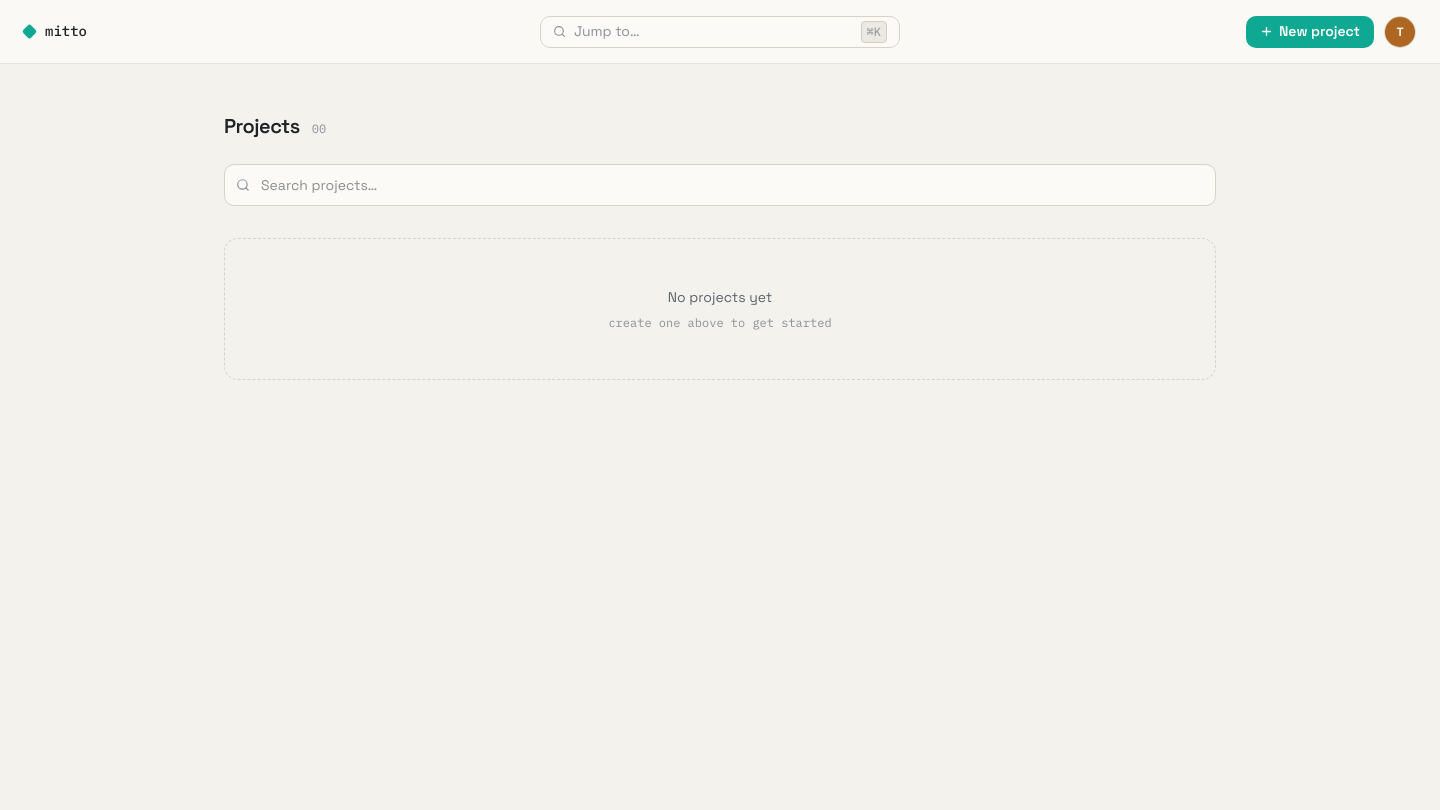
Scenario: ProjectsPage › creates a project via the New project button and adds it to the list
The image size is (1440, 810).
Check: the text "No projects yet" is shown, box [668,288,772,306]
Click the button "New project". click: (1310, 32)
box: [1246,16,1374,48]
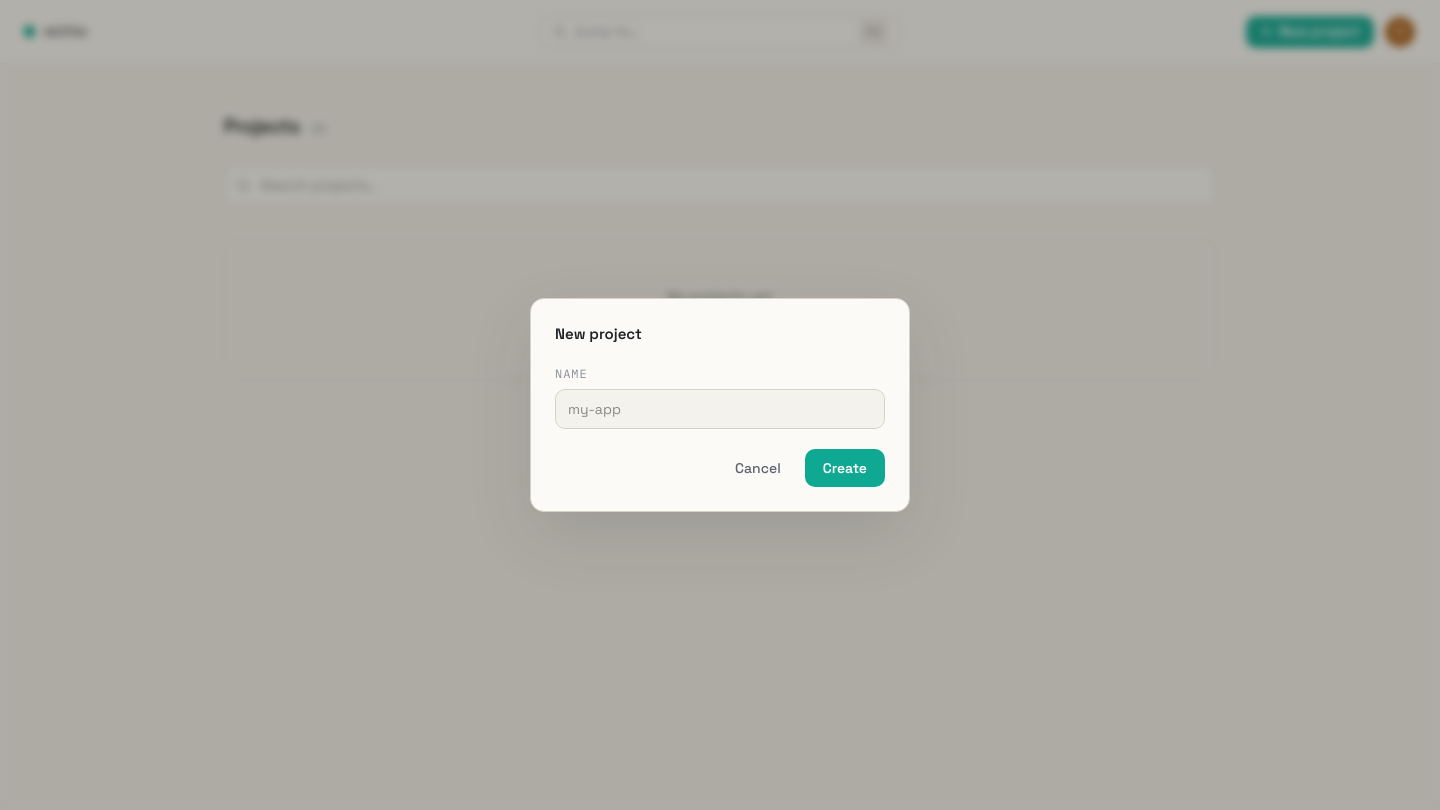
Type "My App" into the field labelled "Name". click: (720, 409)
box: [555,389,885,429]
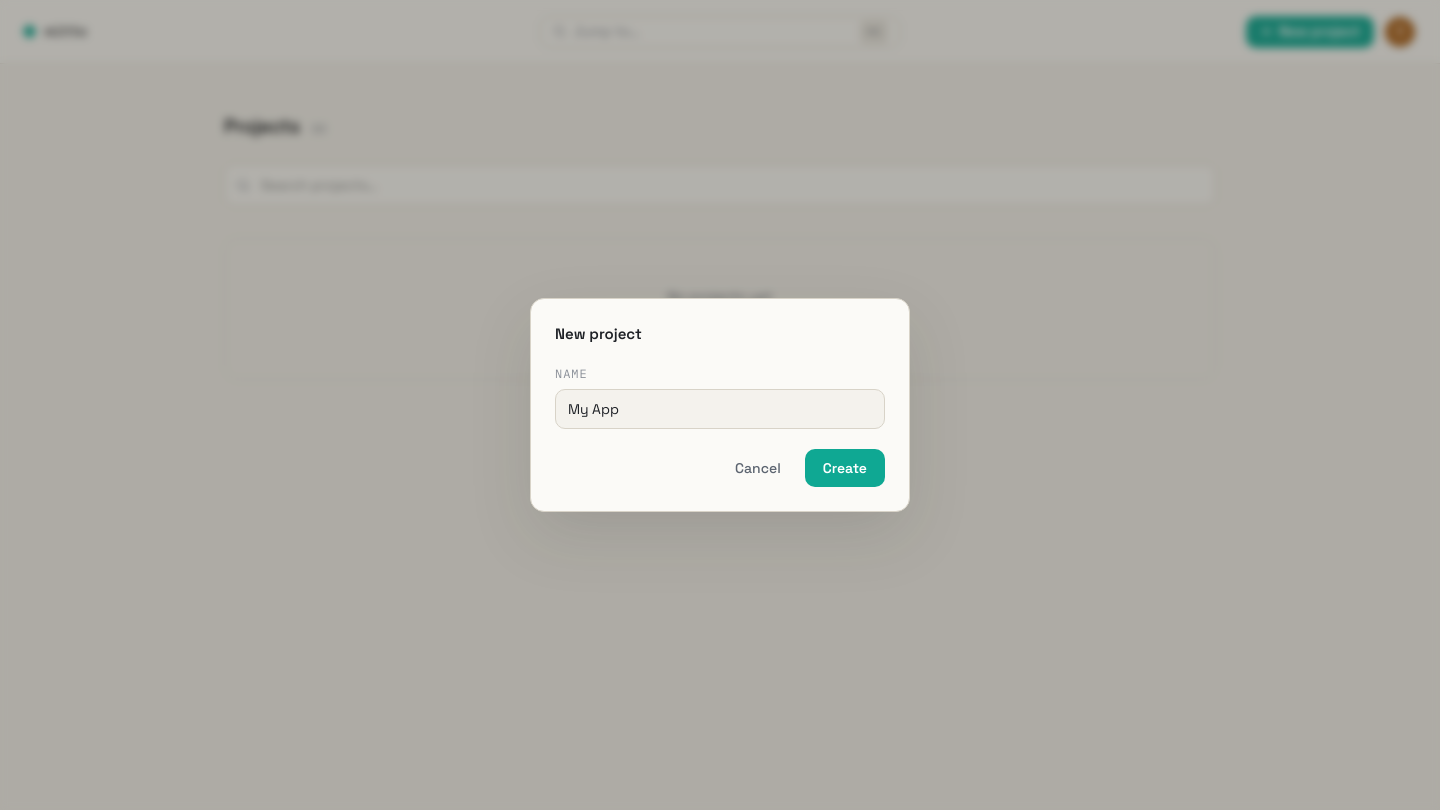
Click the button "Create". click: (845, 468)
box: [805,449,885,487]
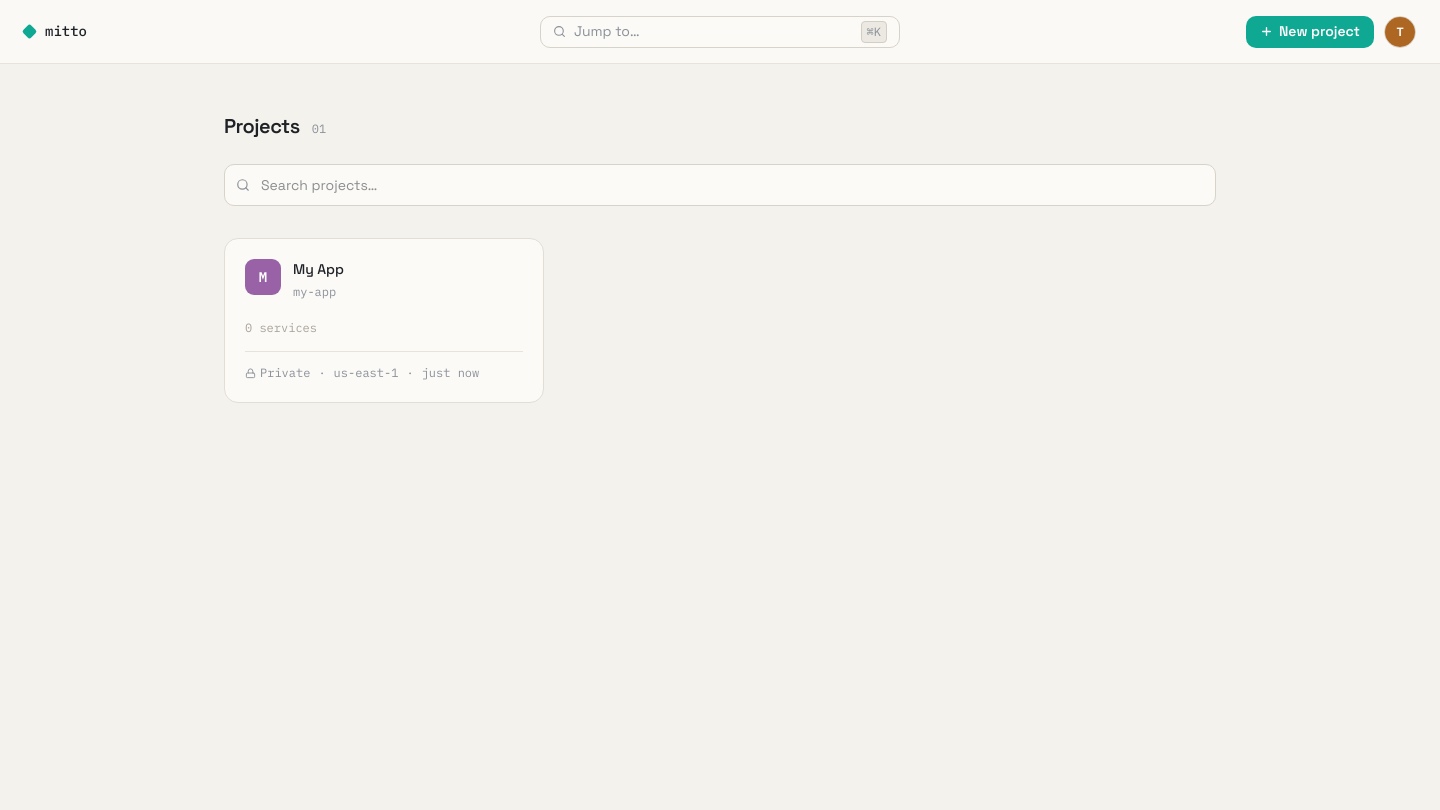
Check: the text "My App" is shown, box [293,259,344,279]
